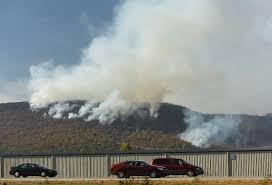smoke: (29, 1, 272, 121), (178, 106, 250, 148)
